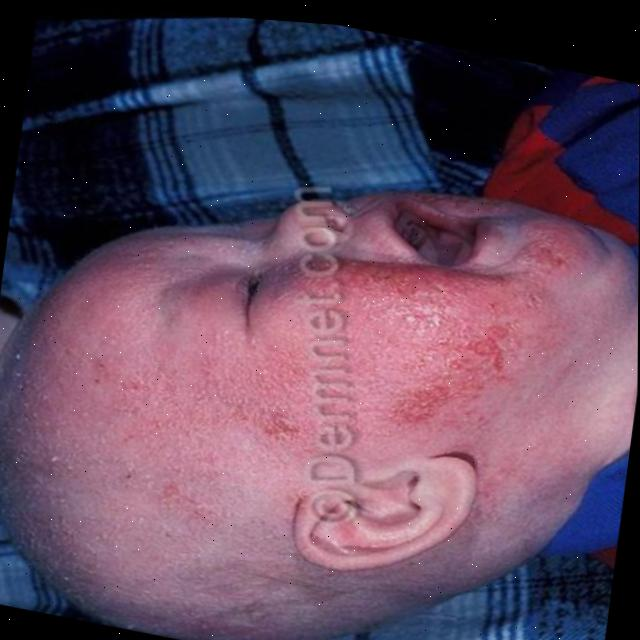Eczema: (309, 223, 568, 438)
